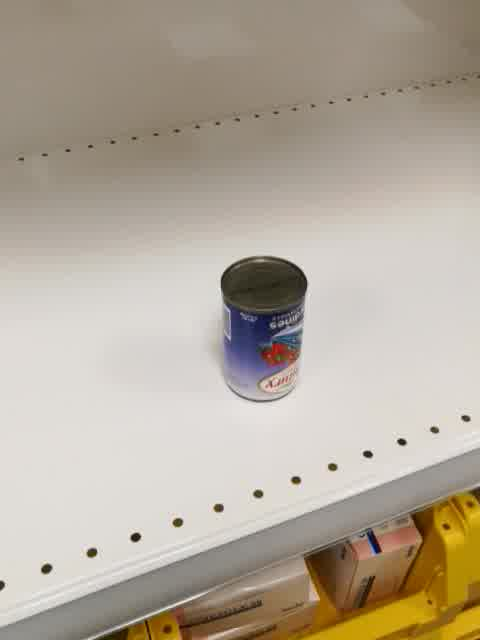sardine: (219, 255, 309, 406)
